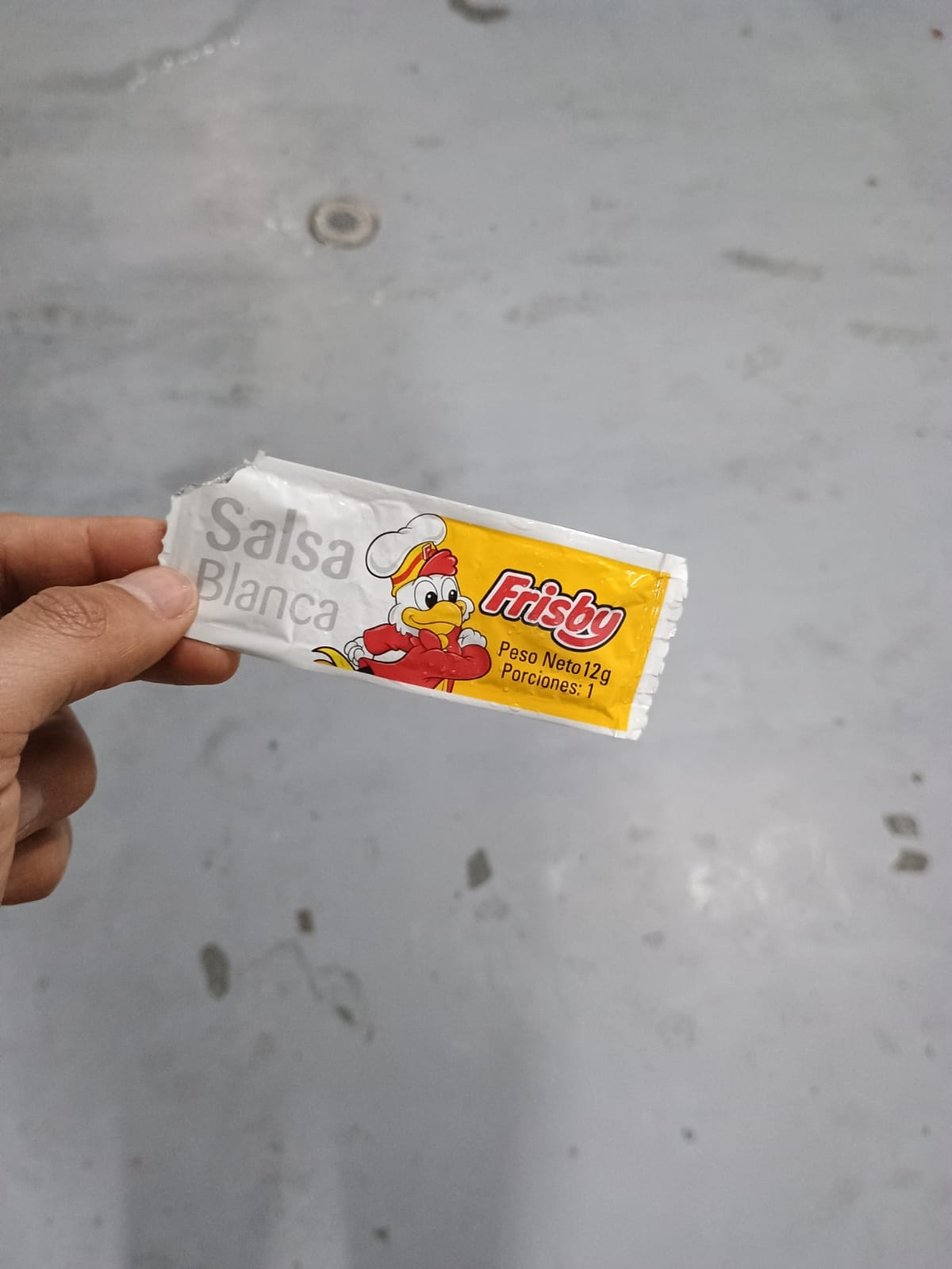Ordinario: (154, 455, 690, 742)
